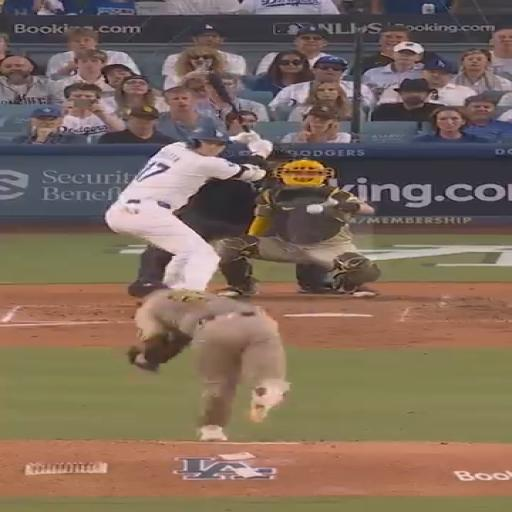bat: (208, 72, 250, 131)
